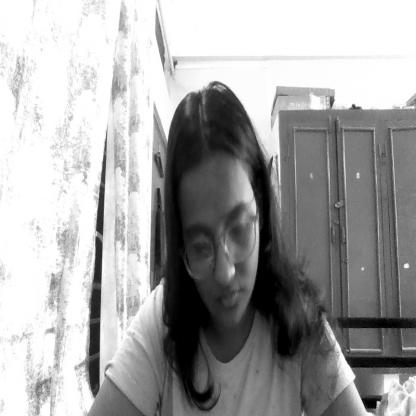Normal: (167, 79, 266, 337)
